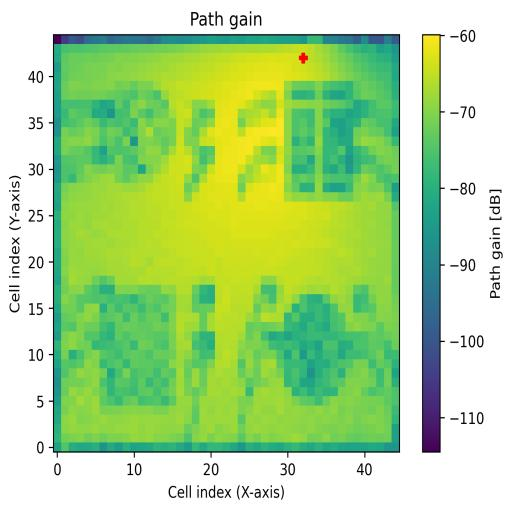Concrete: (284, 81, 360, 202)
Glass: (93, 84, 177, 184)
Metal: (278, 286, 358, 406)
Wood: (100, 286, 176, 406)
